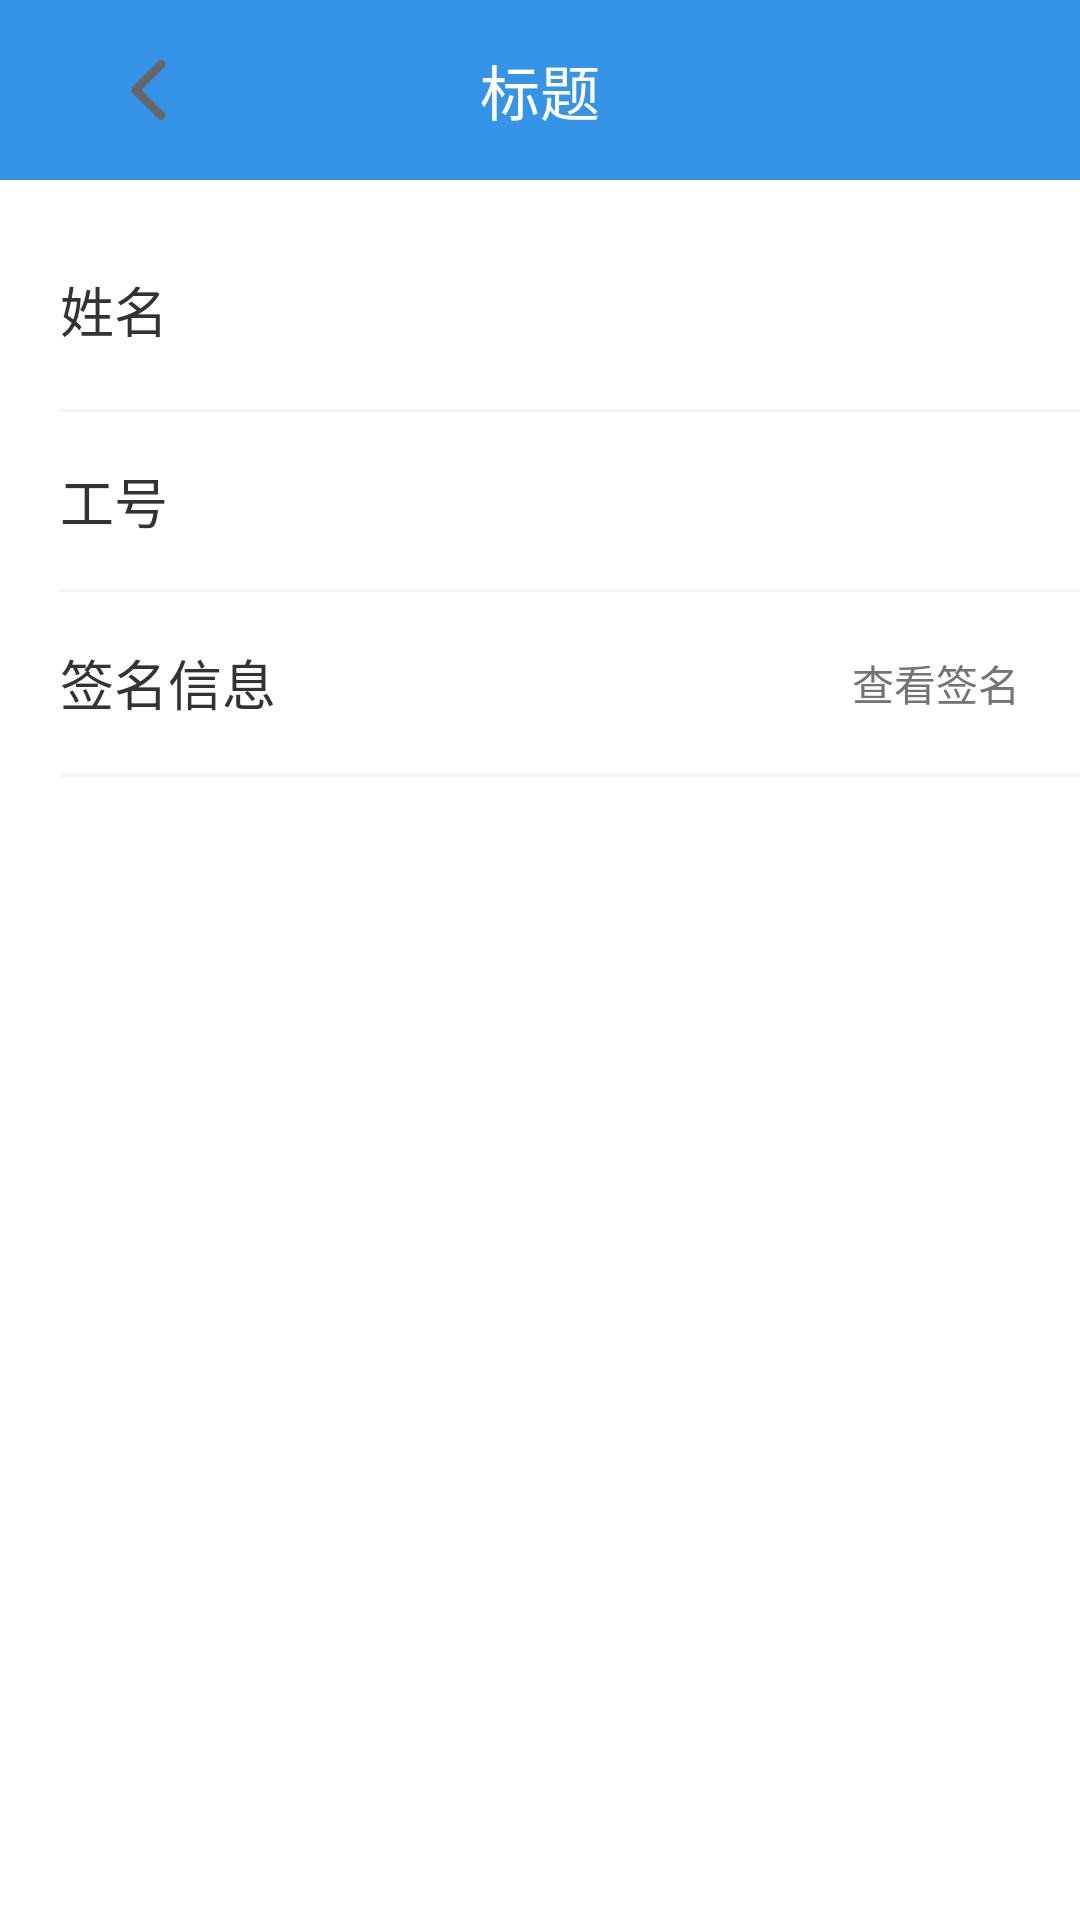

Icons on this 1080px x 1920px Android screen, each with the point to tap as [x,y]:
back: [148,90]
